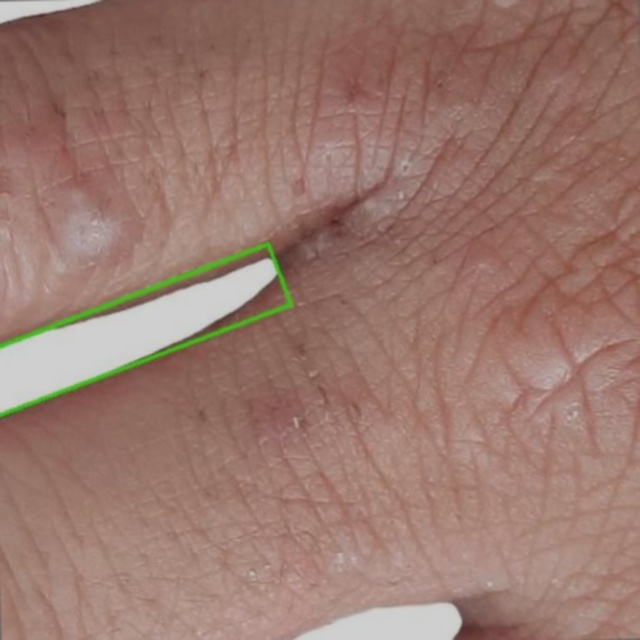Scabies: (0, 243, 293, 423)
